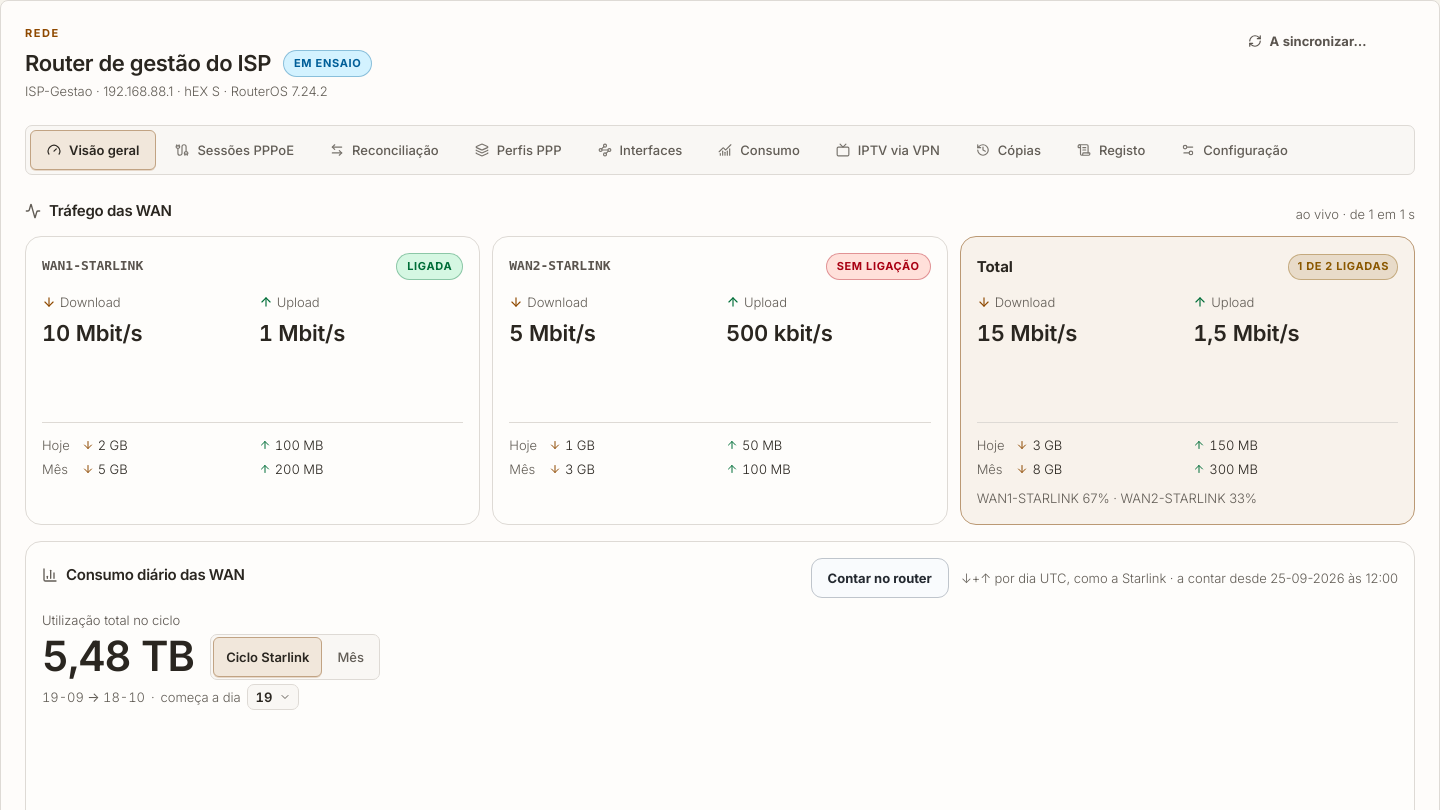
Test: Router de gestão › as sessões mostram também o secret que nenhum serviço reclama
What coordinates should you click on to do the following:
click the tab with id "router-tab-sessions"
I would click on:
 (235, 150)
Its box is x1=158 y1=130 x2=311 y2=170.
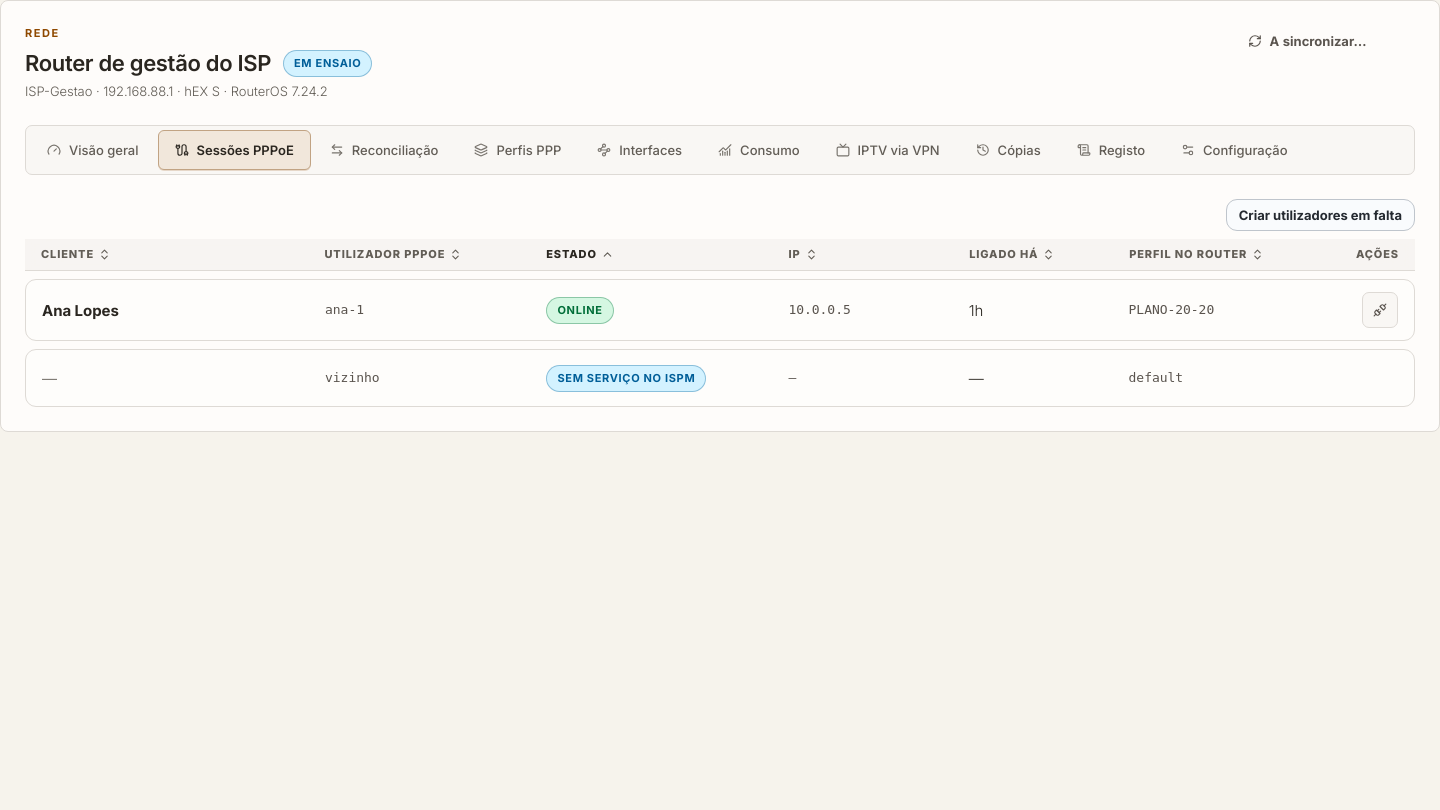
Expected: the number of rows with class "data-table-row" is 2, x1=25 y1=279 x2=1415 y2=341; x1=25 y1=349 x2=1415 y2=407
Expected: the text "Sem serviço no ISPM" is shown, x1=546 y1=365 x2=706 y2=392
